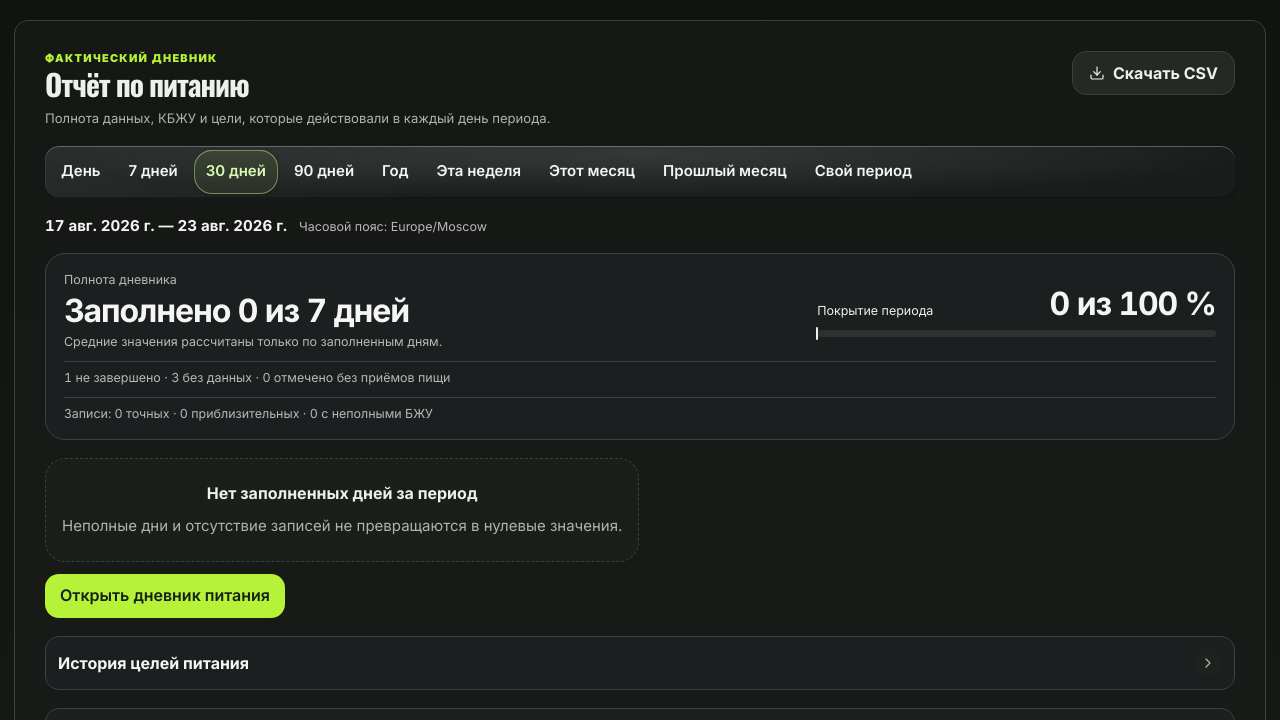
Scenario: NutritionPeriodReport › keeps no-data distinct from zero and offers one real next step
This screenshot has width=1280, height=720.
expect the text "Нет заполненных дней за период" is shown: met, box [207, 482, 477, 502]
Click the heading "История целей питания". click: (154, 663)
box: [58, 649, 1222, 677]
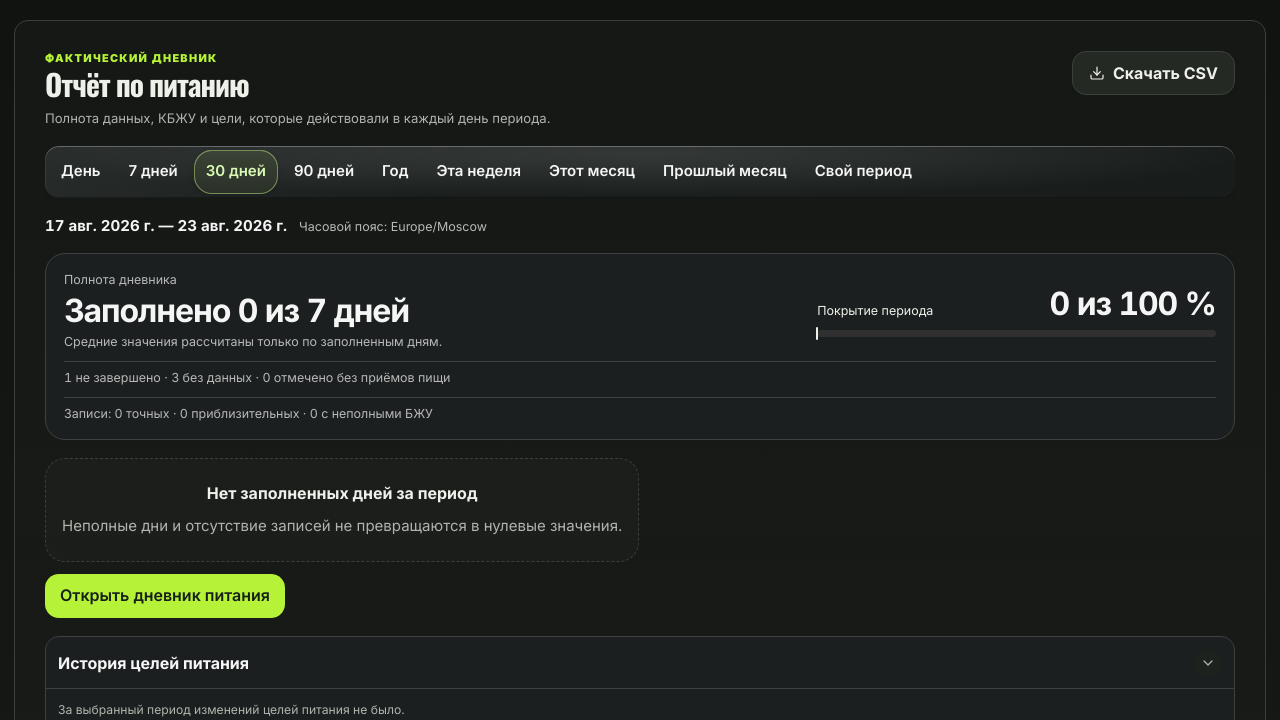
expect the text "За выбранный период изменений целей питания не было." is shown: met, box [58, 702, 405, 717]
